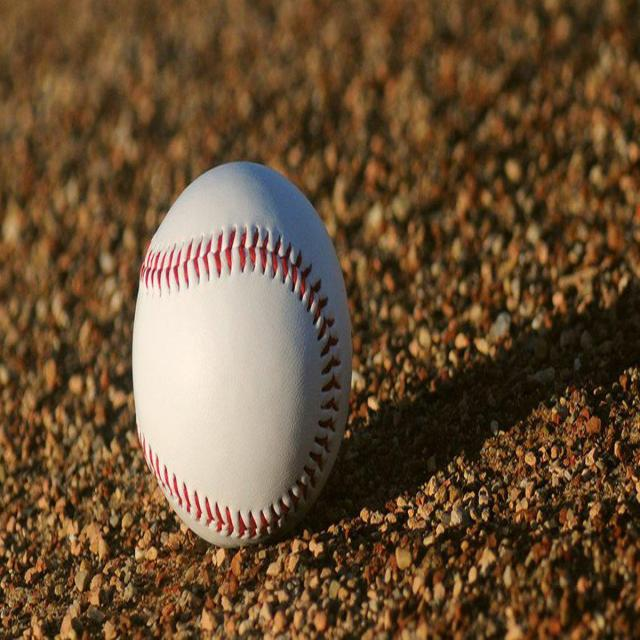baseball: (132, 160, 354, 543)
